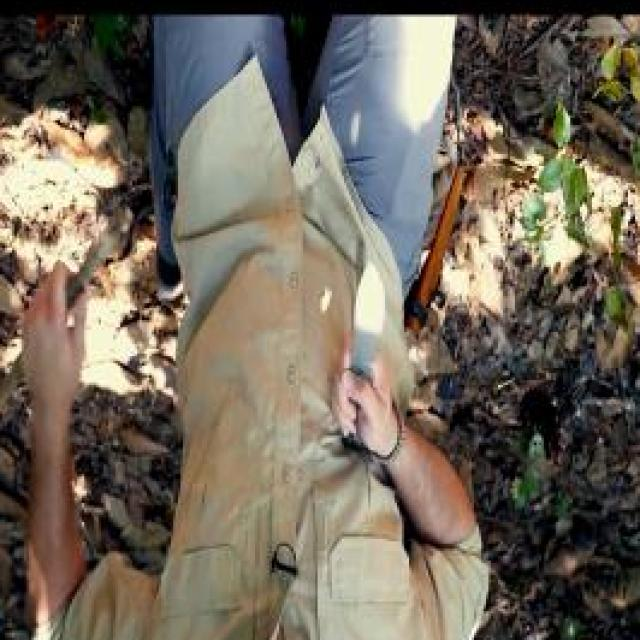knife: (333, 250, 395, 443)
